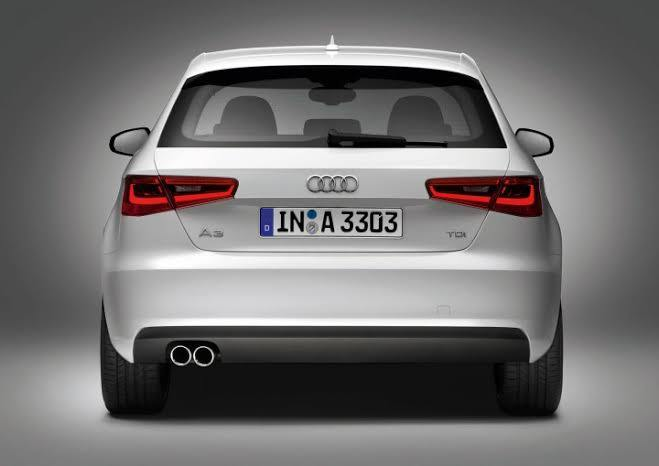audi: (78, 30, 571, 432)
